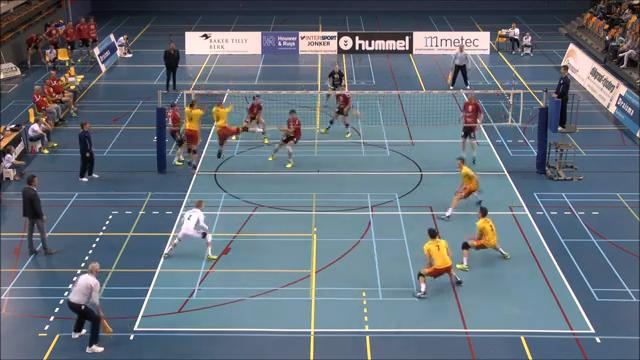Player: (456, 207, 509, 270), (414, 228, 462, 297), (164, 200, 217, 259), (212, 102, 262, 158), (442, 156, 481, 219), (269, 110, 300, 167), (461, 95, 483, 163), (184, 99, 204, 170), (320, 92, 351, 137), (245, 95, 267, 143), (168, 103, 184, 165), (324, 93, 330, 105)
ball: (351, 108, 363, 121)
